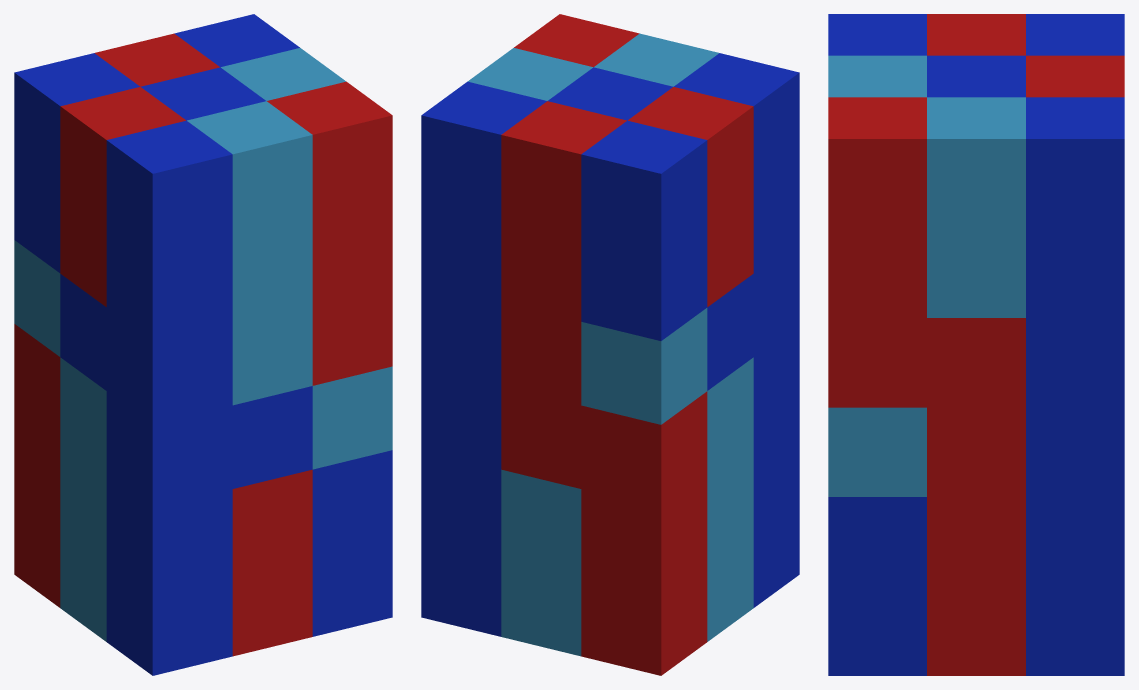
Rendered from Pièces.FBX.
3 renders of one model, left to right at view 1: azimuth 30°, elevation 25°; view 2: azimuth 150°, elevation 25°; view 3: azimuth 270°, elevation 25°, orthographic. The views are drawn at different scales.
Visible parts, largest first — view 1: Box021, Box010, Box022, Box019, Box002, Box009, Box011, Box008, Box020, Box014, Box006, Box017 (+4 smaller); view 2: Box008, Box014, Box018, Box015, Box003, Box021, Box004, Box011, Box010, Box020, Box017, Box019 (+3 smaller); view 3: Box019, Box015, Box003, Box007, Box016, Box002, Box006, Box013, Box018, Box022, Box014, Box020 (+1 smaller).
Boxes of the visible parts, x1=… form: Box021: x1=60, y1=120, x2=232, y2=424; Box010: x1=106, y1=386, x2=312, y2=675; Box022: x1=187, y1=101, x2=312, y2=405; Box019: x1=267, y1=81, x2=392, y2=385; Box002: x1=312, y1=450, x2=392, y2=636; Box009: x1=232, y1=469, x2=312, y2=656; Box011: x1=60, y1=357, x2=106, y2=641; Box008: x1=14, y1=324, x2=60, y2=607; Box020: x1=60, y1=87, x2=185, y2=306; Box014: x1=14, y1=53, x2=139, y2=272; Box006: x1=312, y1=366, x2=392, y2=469; Box017: x1=14, y1=240, x2=60, y2=356; Box008: x1=501, y1=386, x2=707, y2=675; Box014: x1=581, y1=120, x2=707, y2=340; Box018: x1=501, y1=101, x2=626, y2=405; Box015: x1=421, y1=81, x2=546, y2=385; Box003: x1=421, y1=366, x2=501, y2=636; Box021: x1=674, y1=53, x2=799, y2=390; Box004: x1=501, y1=469, x2=581, y2=656; Box011: x1=707, y1=357, x2=753, y2=641; Box010: x1=753, y1=324, x2=799, y2=607; Box020: x1=628, y1=87, x2=753, y2=306; Box017: x1=581, y1=308, x2=707, y2=424; Box019: x1=514, y1=14, x2=639, y2=67; Box019: x1=828, y1=97, x2=1025, y2=407; Box015: x1=1026, y1=97, x2=1124, y2=407; Box003: x1=1026, y1=407, x2=1124, y2=675; Box007: x1=927, y1=407, x2=1025, y2=675; Box016: x1=927, y1=97, x2=1025, y2=317; Box002: x1=828, y1=497, x2=926, y2=675; Box006: x1=828, y1=407, x2=926, y2=496; Box013: x1=927, y1=55, x2=1025, y2=97; Box018: x1=1026, y1=55, x2=1124, y2=97; Box022: x1=828, y1=55, x2=926, y2=97; Box014: x1=1026, y1=14, x2=1124, y2=55; Box020: x1=927, y1=14, x2=1025, y2=55.
Size of the model in its own units: 3000 by 6000 by 3000.
